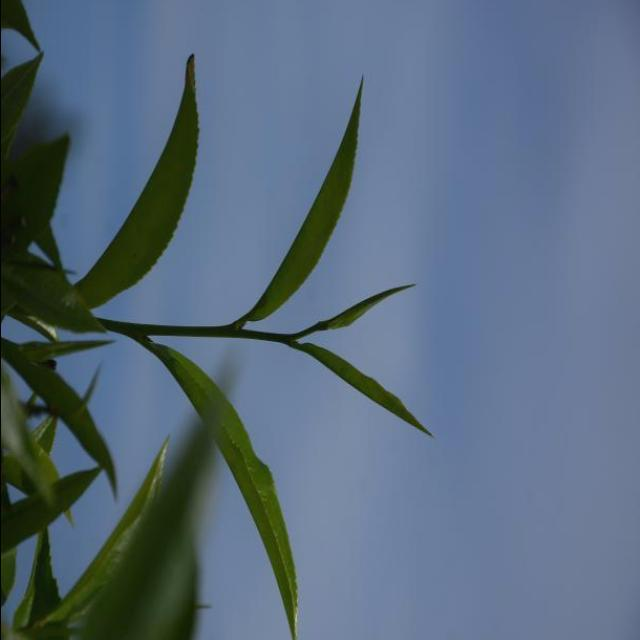Stem: (281, 334, 294, 344)
